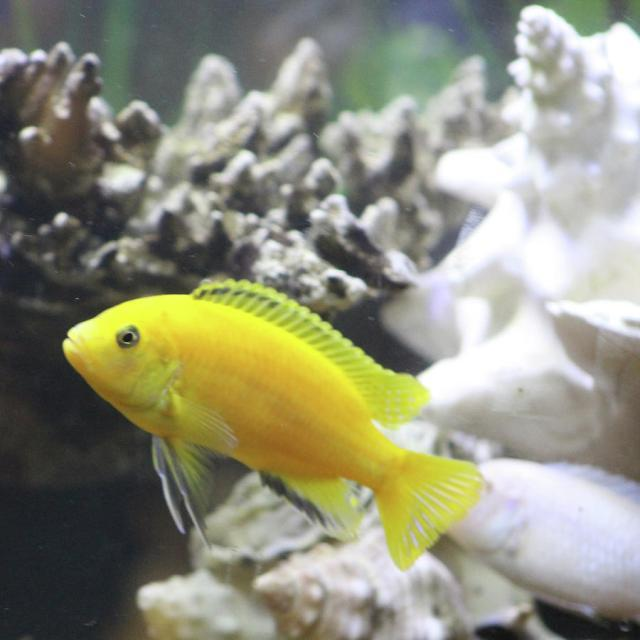YellowCichlid: (48, 259, 514, 586)
